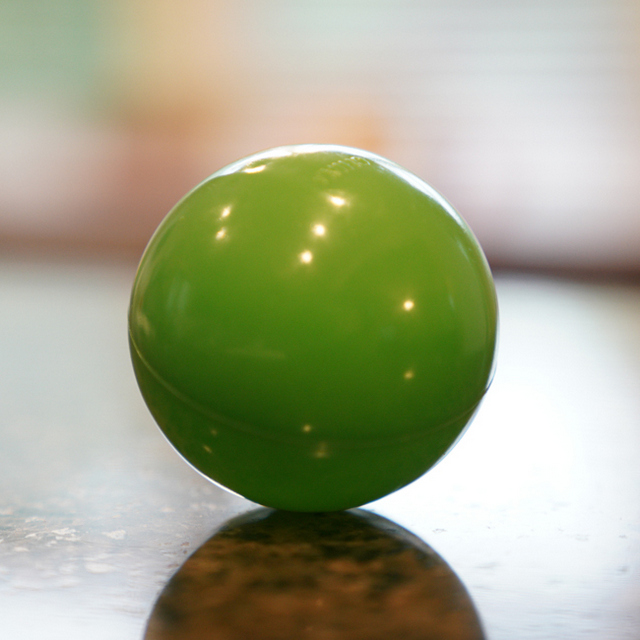Ball: (134, 146, 494, 511)
